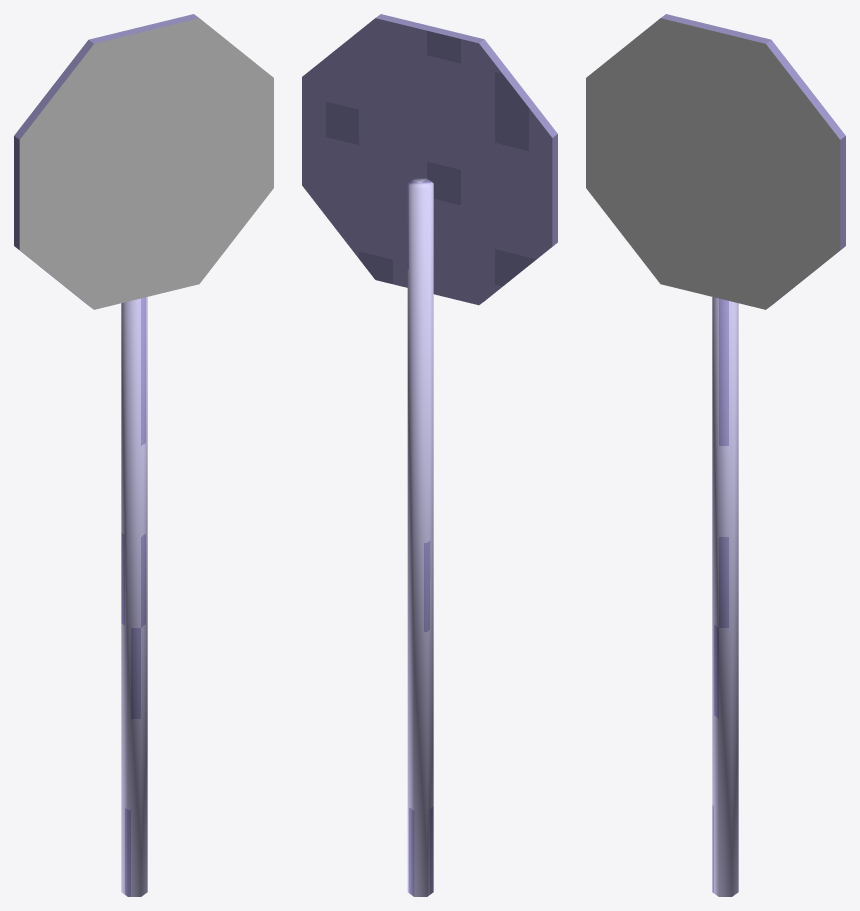
Rendered from Stop Sign.fbx.
The picture shows the model from 3 angles, left to right: view 1: azimuth 30°, elevation 25°; view 2: azimuth 150°, elevation 25°; view 3: azimuth 330°, elevation 25°; orthographic projection.
Parts seen in each view (by area): view 1: Stop Sign plate, Stop Sign pole; view 2: Stop Sign plate, Stop Sign pole; view 3: Stop Sign plate, Stop Sign pole.
Part boxes in pixels (<box>): Stop Sign plate: <box>14,14,273,309</box>; Stop Sign pole: <box>121,297,147,896</box>; Stop Sign plate: <box>302,14,557,305</box>; Stop Sign pole: <box>407,178,433,896</box>; Stop Sign plate: <box>586,14,845,309</box>; Stop Sign pole: <box>712,297,738,896</box>.
Size of the model in its own units: 0.7761 by 2.54 by 0.1.
